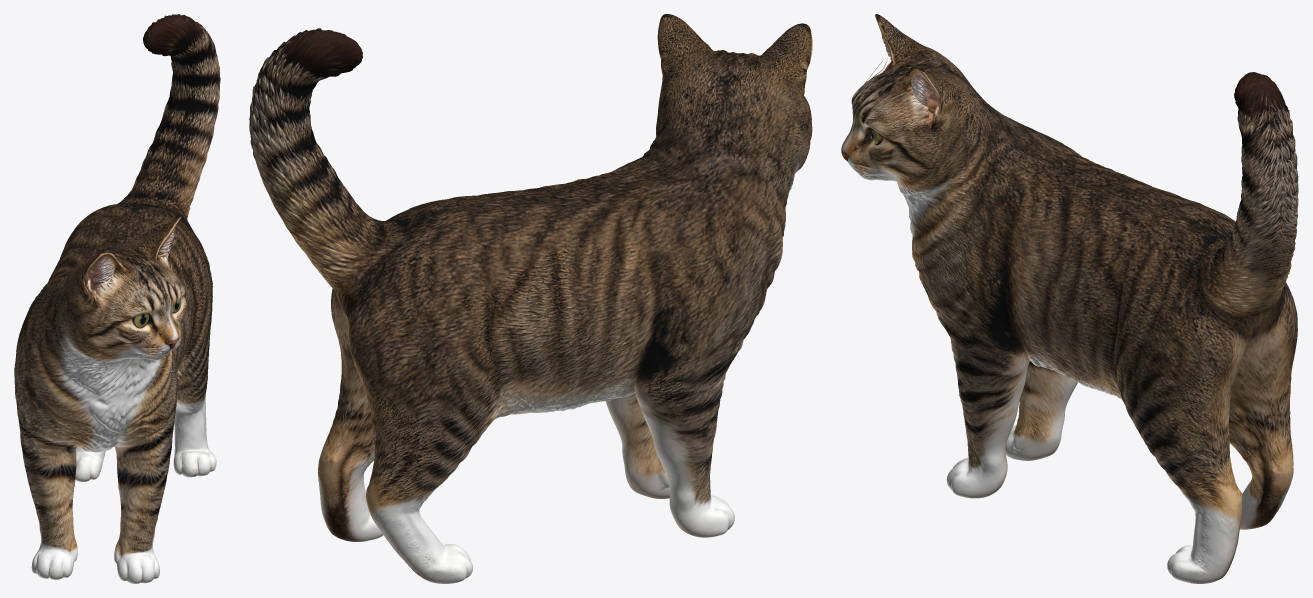
Rendered from cat.glb.
The picture shows the model from 3 angles, left to right: view 1: azimuth 30°, elevation 25°; view 2: azimuth 150°, elevation 25°; view 3: azimuth 270°, elevation 25°; orthographic projection. The views are drawn at different scales.
Visible parts, largest first — view 1: cat; view 2: cat; view 3: cat.
Part boxes in pixels (x1,y1,x2,y2): cat: (14, 14, 220, 583); cat: (249, 14, 812, 583); cat: (841, 14, 1298, 583).
Size of the model in its own units: 0.3735 by 0.5 by 0.4145.
Materials: 1 (1 with a texture image).
